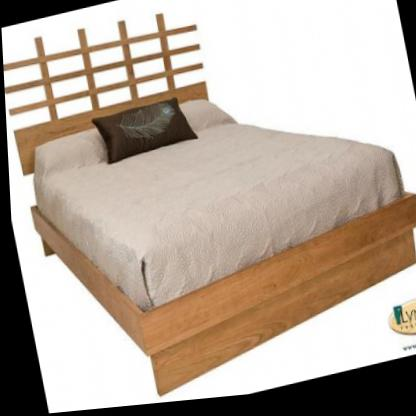Bed: (9, 43, 416, 416)
